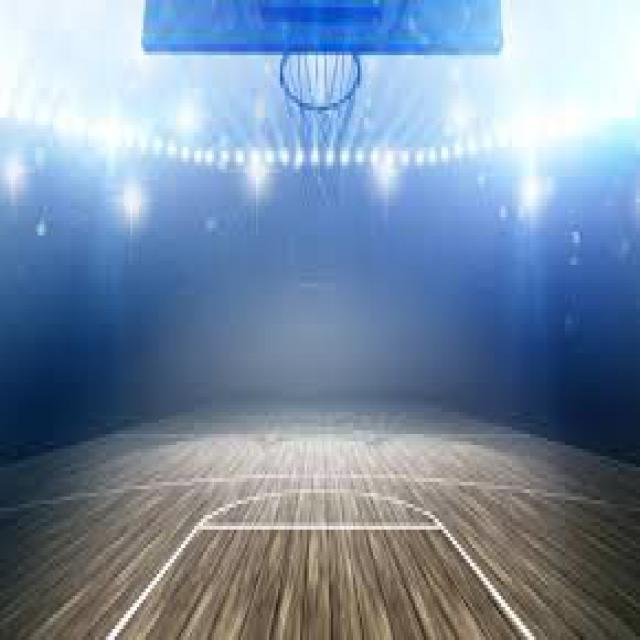rim: (278, 48, 362, 114)
